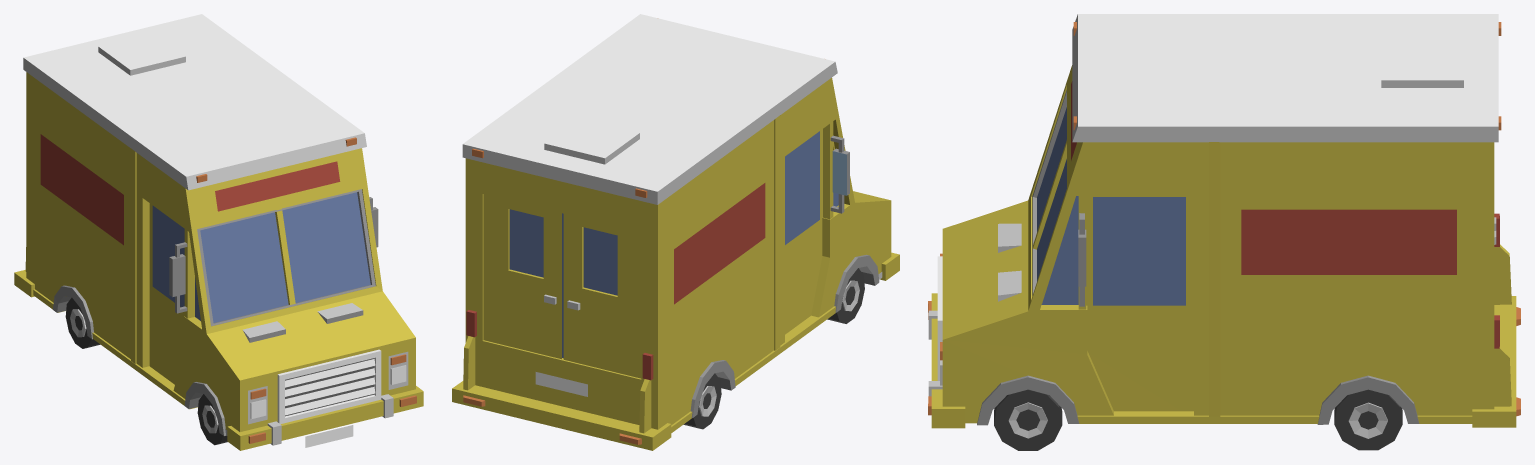
Rendered from transport_bus_004.fbx.
3 renders of one model, left to right at view 1: azimuth 30°, elevation 25°; view 2: azimuth 150°, elevation 25°; view 3: azimuth 270°, elevation 25°, orthographic. The views are drawn at different scales.
Visible parts, largest first — view 1: transport_bus_004; view 2: transport_bus_004; view 3: transport_bus_004.
Part boxes in pixels (<box>): transport_bus_004: <box>14,14,423,450</box>; transport_bus_004: <box>452,14,899,450</box>; transport_bus_004: <box>928,14,1520,450</box>.
Size of the model in its own units: 202 by 243 by 390.
